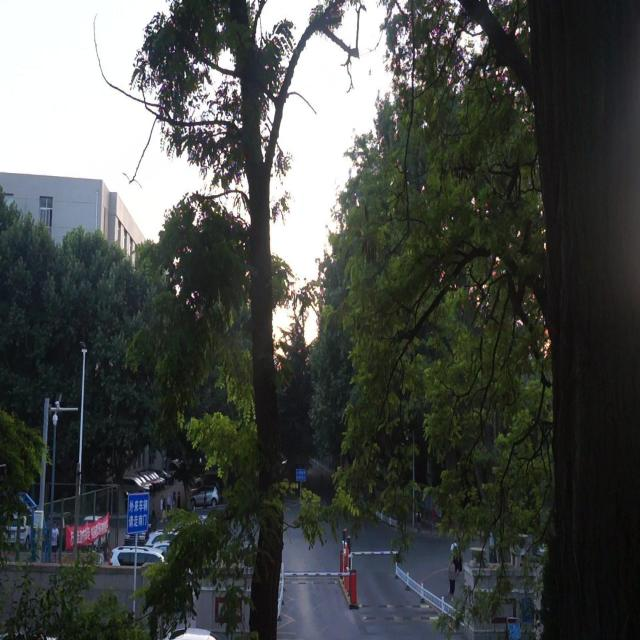UAV: (367, 161, 380, 175)
